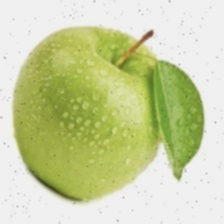apple: (44, 56, 215, 208)
